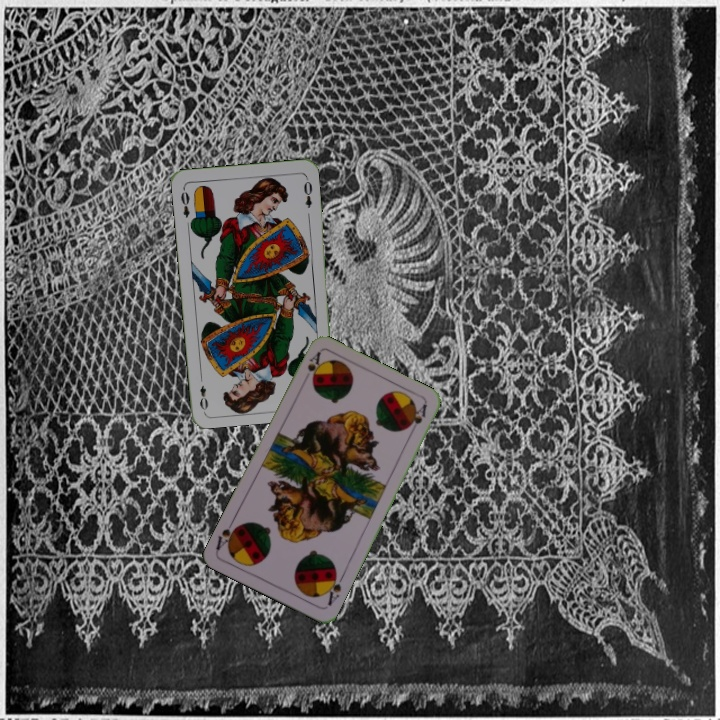EO: (177, 184, 192, 220)
SA: (320, 568, 347, 608), (303, 348, 324, 384)
